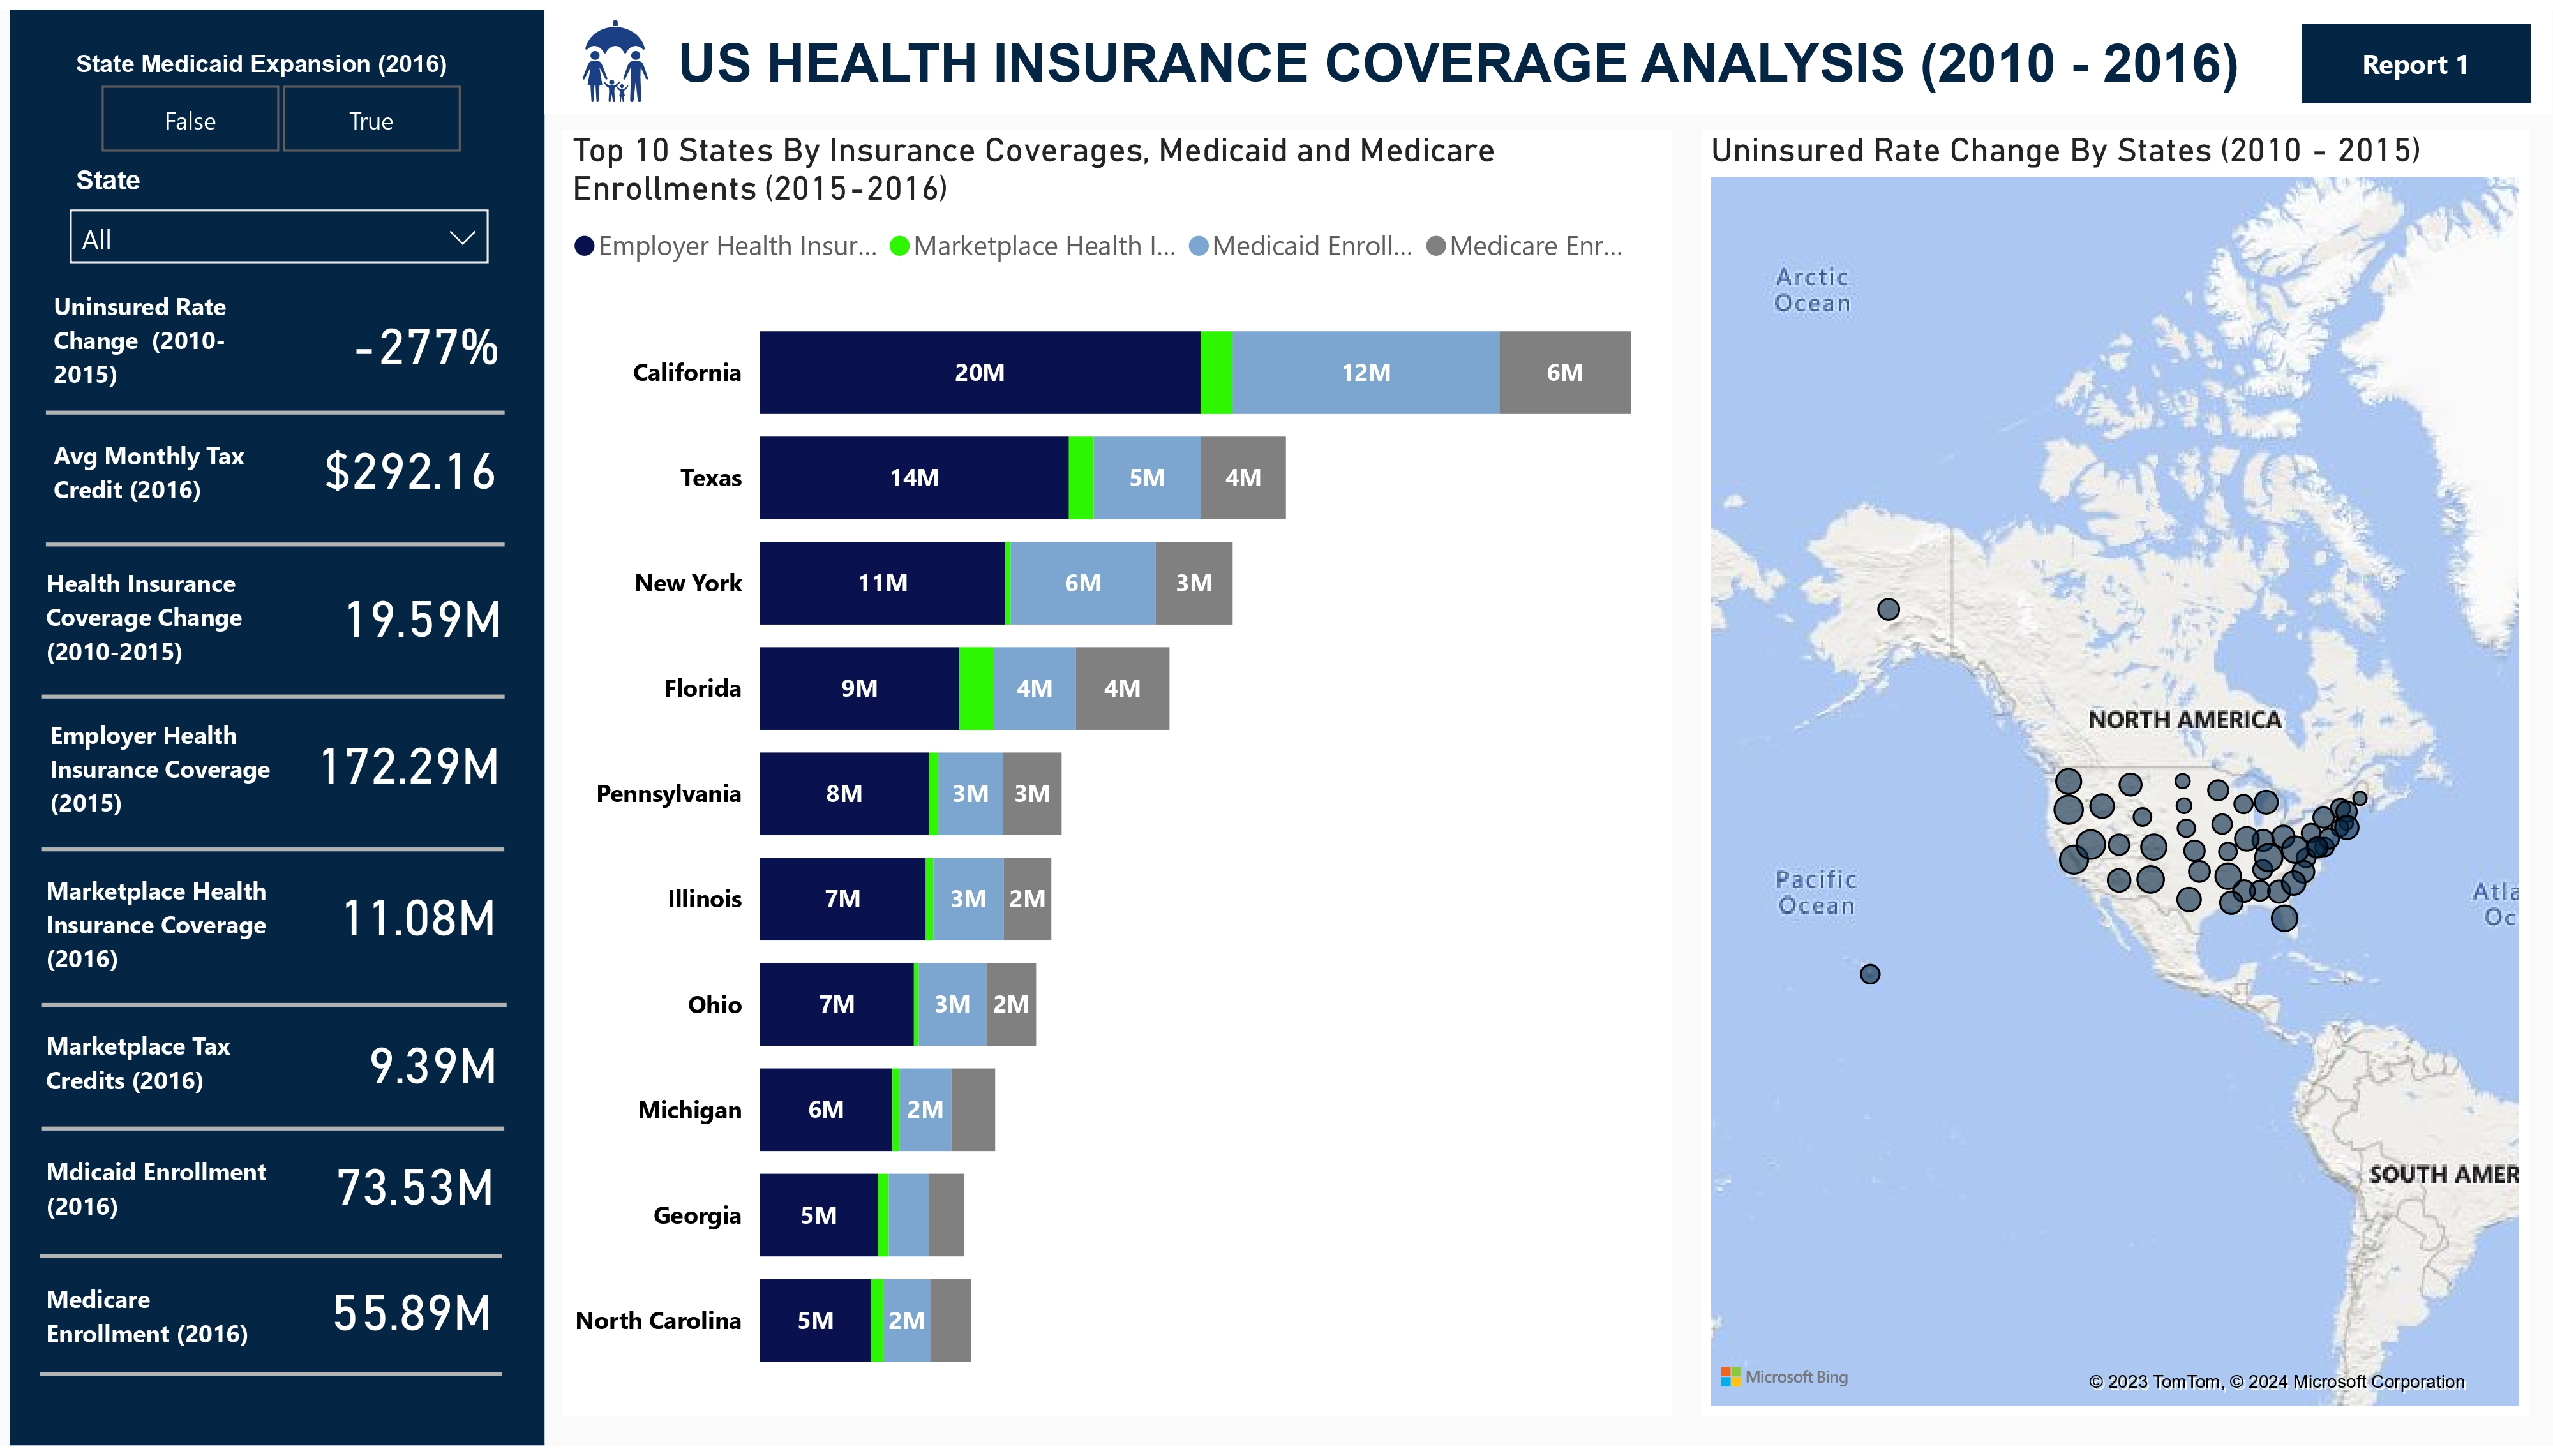

The dashboard page shown, as its layout file describes it:
{"tool":"powerbi","page":{"name":"REPORT 1","canvas":[1280,720],"ordinal":0},"visuals":[{"type":"shape","box":[5,0,268.4,719.7],"z":0},{"type":"card","fields":{"Values":["DAX.Avg Average Monthly Tax Credit (2016)"]},"box":[137.5,191.3,137.5,78],"z":1000},{"type":"card","fields":{"Values":["DAX.Formatted Health Insurance Coverage Change (2010-2015)"]},"box":[141.7,263.6,138.9,80.8],"z":2000},{"type":"card","fields":{"Values":["DAX.FORMATTED Employee Health Insurance Coverage (2015)"]},"box":[127.6,338.7,153.1,78],"z":3000},{"type":"card","fields":{"Values":["DAX.Formatted Marketplace Health Insurance Coverage (2016)"]},"box":[140.3,415.3,138.9,78],"z":4000},{"type":"shape","box":[23.3,249.6,230.4,36],"z":5000},{"type":"card","fields":{"Values":["DAX.Formatted Marketplace Tax Credit (2016)"]},"box":[146,487.6,141.7,80.8],"z":6000},{"type":"shape","box":[21.3,323.1,232.4,42.5],"z":7000},{"type":"shape","box":[21.3,399.9,231.8,41.8],"z":8000},{"type":"shape","box":[23.3,181.5,230.4,41.8],"z":9000},{"type":"shape","box":[21.3,477.6,233.3,41.8],"z":10000},{"type":"card","fields":{"Values":["DAX.Formatted Uninsured Rate Change (2010-2016)"]},"box":[144.6,127.6,136.1,79.4],"z":11000},{"type":"card","fields":{"Values":["DAX.Medicaid Enrollment (2016)"]},"box":[137.5,549.9,141.6,78.4],"z":12000},{"type":"textbox","box":[21.8,209.3,109.4,66.2],"z":13000},{"type":"textbox","box":[18.4,273.1,125.3,79.2],"z":14000},{"type":"textbox","box":[19.8,349.5,125.3,79.2],"z":15000},{"type":"textbox","box":[18.4,426.6,124.7,79.4],"z":16000},{"type":"textbox","box":[21.8,134,109.4,63.4],"z":17000},{"type":"textbox","box":[18.4,504.6,124.7,73.7],"z":18000},{"type":"shape","box":[21.3,540.3,231.8,41.8],"z":19000},{"type":"textbox","box":[18.4,568.4,125.3,60.5],"z":20000},{"type":"shape","box":[19.9,604.4,231.8,41.8],"z":21000},{"type":"card","fields":{"Values":["DAX.Medicare Enrollment (2016)"]},"box":[134.7,613.2,141.6,78.4],"z":22000},{"type":"textbox","box":[18.4,632.1,124.7,59.5],"z":23000},{"type":"shape","box":[19.9,663.3,231.8,41.8],"z":24000},{"type":"barChart","title":"Top 10 States With Most Declined Uninsured Rate Change (2010-2016)","fields":{"Category":["states.State"],"Y":["Sum(states.Uninsured Rate Change (2010-2015))"]},"box":[280.5,62.2,307,312],"z":25000},{"type":"donutChart","title":"States Medicaid Expansion (2016) Enrollment Status","fields":{"Series":["states.State Medicaid Expansion (2016)"],"Y":["CountNonNull(states.State Medicaid Expansion (2016))"]},"box":[599.7,62.2,312.4,312],"z":26000},{"type":"barChart","title":"Top 10 States With The Most Significant Medicaid Enrollment Change (2013-2016)","fields":{"Category":["states.State"],"Y":["Sum(states.Medicaid Enrollment Change (2013-2016))"]},"box":[923.9,62.2,344.4,312],"z":27000},{"type":"barChart","title":"Top 10 States By Health Insurance Coverage Change (2010-2015)","fields":{"Category":["states.State"],"Y":["Sum(states.Health Insurance Coverage Change (2010-2015))"]},"box":[280.5,386.4,307.4,322.5],"z":28000},{"type":"slicer","fields":{"Values":["states.State"]},"box":[24.7,72.9,229.6,64.6],"z":29000},{"type":"slicer","fields":{"Values":["states.State Medicaid Expansion (2016)"]},"box":[24.7,15.1,229.6,63.2],"z":30000},{"type":"shape","box":[273.4,0,1006.6,52],"z":31000},{"type":"textbox","box":[334.5,7.3,837.8,50.9],"z":32000},{"type":"image","box":[273.5,0,69.8,50.9],"z":33000},{"type":"barChart","title":"Top 10 States By Avg Monthly Tax Credit (2016)","fields":{"Category":["states.State"],"Y":["Sum(states.Average Monthly Tax Credit (2016))"]},"box":[599.7,389.7,312.4,317.5],"z":34000},{"type":"actionButton","box":[1153.7,7.1,114.8,39.7],"z":35000},{"type":"barChart","title":"Top 10 States By Marketplace Tax Credits (2016)","fields":{"Category":["states.State"],"Y":["Sum(states.Marketplace Tax Credits (2016))"]},"box":[923.9,389.7,344.4,319.2],"z":36000}]}

Visuals, with their boxes in screenshot pixels (x1, y1, x2, y2), scaled from the page's 1280x720 canvas onto the 2553x1456 screenshot:
shape: {"x1": 10, "y1": 0, "x2": 545, "y2": 1455}
card - DAX.Avg Average Monthly Tax Credit (2016): {"x1": 274, "y1": 387, "x2": 548, "y2": 545}
card - DAX.Formatted Health Insurance Coverage Change (2010-2015): {"x1": 283, "y1": 533, "x2": 560, "y2": 697}
card - DAX.FORMATTED Employee Health Insurance Coverage (2015): {"x1": 255, "y1": 685, "x2": 560, "y2": 843}
card - DAX.Formatted Marketplace Health Insurance Coverage (2016): {"x1": 280, "y1": 840, "x2": 557, "y2": 997}
shape: {"x1": 47, "y1": 505, "x2": 506, "y2": 577}
card - DAX.Formatted Marketplace Tax Credit (2016): {"x1": 291, "y1": 986, "x2": 574, "y2": 1150}
shape: {"x1": 43, "y1": 653, "x2": 506, "y2": 739}
shape: {"x1": 43, "y1": 808, "x2": 505, "y2": 893}
shape: {"x1": 47, "y1": 367, "x2": 506, "y2": 452}
shape: {"x1": 43, "y1": 966, "x2": 508, "y2": 1050}
card - DAX.Formatted Uninsured Rate Change (2010-2016): {"x1": 288, "y1": 258, "x2": 560, "y2": 419}
card - DAX.Medicaid Enrollment (2016): {"x1": 274, "y1": 1112, "x2": 557, "y2": 1270}
textbox: {"x1": 43, "y1": 423, "x2": 262, "y2": 557}
textbox: {"x1": 36, "y1": 553, "x2": 287, "y2": 713}
textbox: {"x1": 40, "y1": 707, "x2": 289, "y2": 867}
textbox: {"x1": 36, "y1": 863, "x2": 285, "y2": 1023}
textbox: {"x1": 43, "y1": 271, "x2": 262, "y2": 399}
textbox: {"x1": 36, "y1": 1020, "x2": 285, "y2": 1170}
shape: {"x1": 43, "y1": 1092, "x2": 505, "y2": 1177}
textbox: {"x1": 36, "y1": 1150, "x2": 287, "y2": 1272}
shape: {"x1": 40, "y1": 1222, "x2": 502, "y2": 1307}
card - DAX.Medicare Enrollment (2016): {"x1": 269, "y1": 1240, "x2": 551, "y2": 1399}
textbox: {"x1": 36, "y1": 1278, "x2": 285, "y2": 1399}
shape: {"x1": 40, "y1": 1341, "x2": 502, "y2": 1426}
"Top 10 States With Most Declined Uninsured Rate Change (2010-2016)" barChart: {"x1": 560, "y1": 126, "x2": 1172, "y2": 757}
"States Medicaid Expansion (2016) Enrollment Status" donutChart: {"x1": 1196, "y1": 126, "x2": 1819, "y2": 757}
"Top 10 States With The Most Significant Medicaid Enrollment Change (2013-2016)" barChart: {"x1": 1843, "y1": 126, "x2": 2529, "y2": 757}
"Top 10 States By Health Insurance Coverage Change (2010-2015)" barChart: {"x1": 560, "y1": 782, "x2": 1172, "y2": 1434}
slicer - states.State: {"x1": 49, "y1": 147, "x2": 507, "y2": 278}
slicer - states.State Medicaid Expansion (2016): {"x1": 49, "y1": 31, "x2": 507, "y2": 158}
shape: {"x1": 545, "y1": 0, "x2": 2552, "y2": 105}
textbox: {"x1": 667, "y1": 15, "x2": 2338, "y2": 117}
image: {"x1": 546, "y1": 0, "x2": 685, "y2": 103}
"Top 10 States By Avg Monthly Tax Credit (2016)" barChart: {"x1": 1196, "y1": 788, "x2": 1819, "y2": 1430}
actionButton: {"x1": 2301, "y1": 15, "x2": 2530, "y2": 94}
"Top 10 States By Marketplace Tax Credits (2016)" barChart: {"x1": 1843, "y1": 788, "x2": 2529, "y2": 1434}
